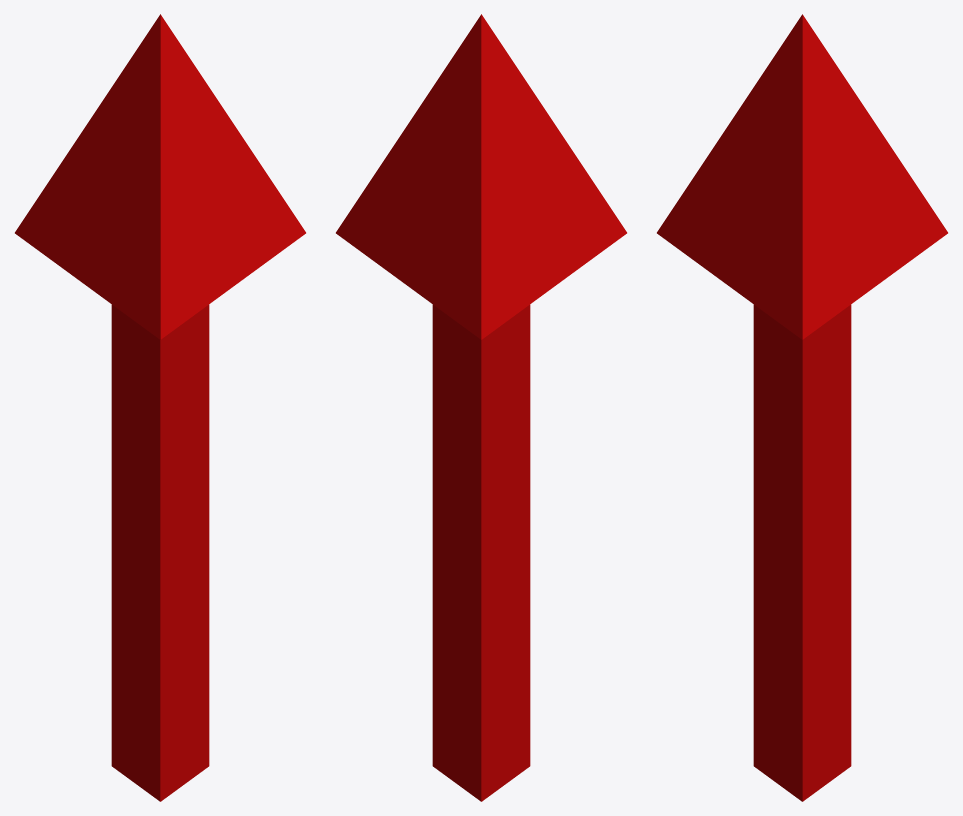
Rendered from forceVector.obj.
The picture shows the model from 3 angles, left to right: view 1: azimuth 30°, elevation 25°; view 2: azimuth 150°, elevation 25°; view 3: azimuth 270°, elevation 25°; orthographic projection.
Visible parts, largest first — view 1: pCylinder2; view 2: pCylinder2; view 3: pCylinder2.
Part boxes in pixels (x1,y1,x2,y2): pCylinder2: (15,14,305,801); pCylinder2: (336,14,626,801); pCylinder2: (657,14,947,801).
Bounding box in the file's own units: 0.45 × 1.5 × 0.5196.
